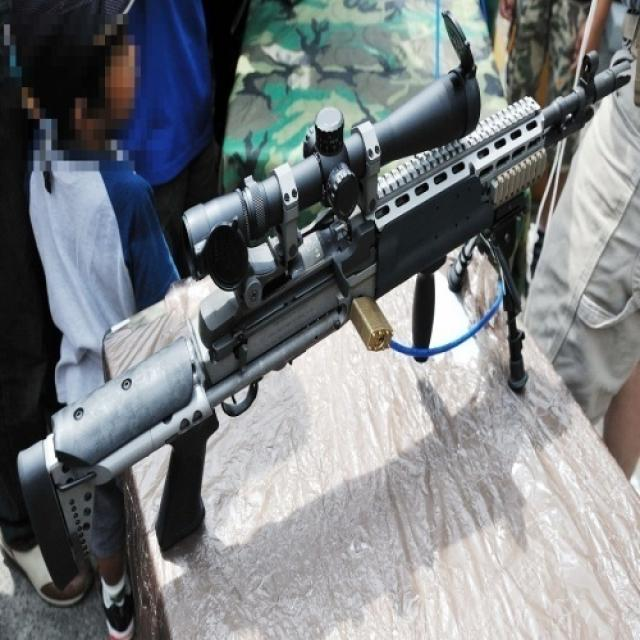Gun: (41, 49, 640, 540)
